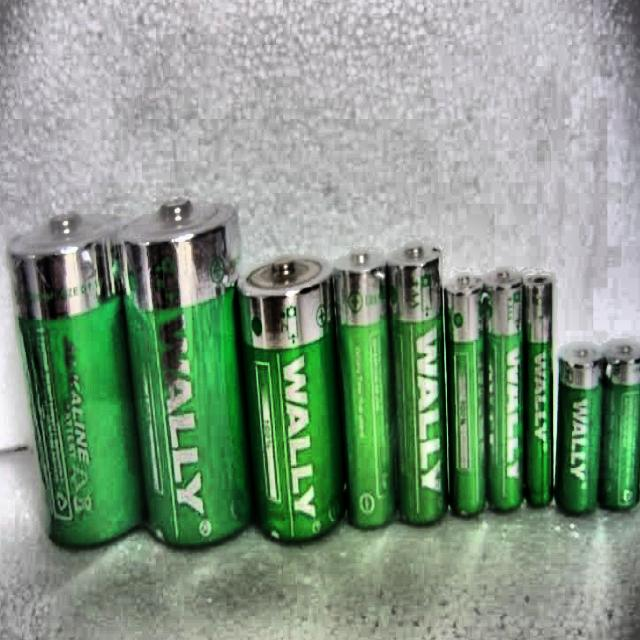Non-Valuable Waste - Batteries: (122, 201, 252, 546), (9, 215, 143, 546), (239, 257, 343, 541), (333, 251, 395, 528), (388, 247, 448, 525), (444, 276, 487, 515), (484, 270, 524, 510), (556, 344, 603, 512), (599, 342, 640, 509), (524, 276, 553, 505)
